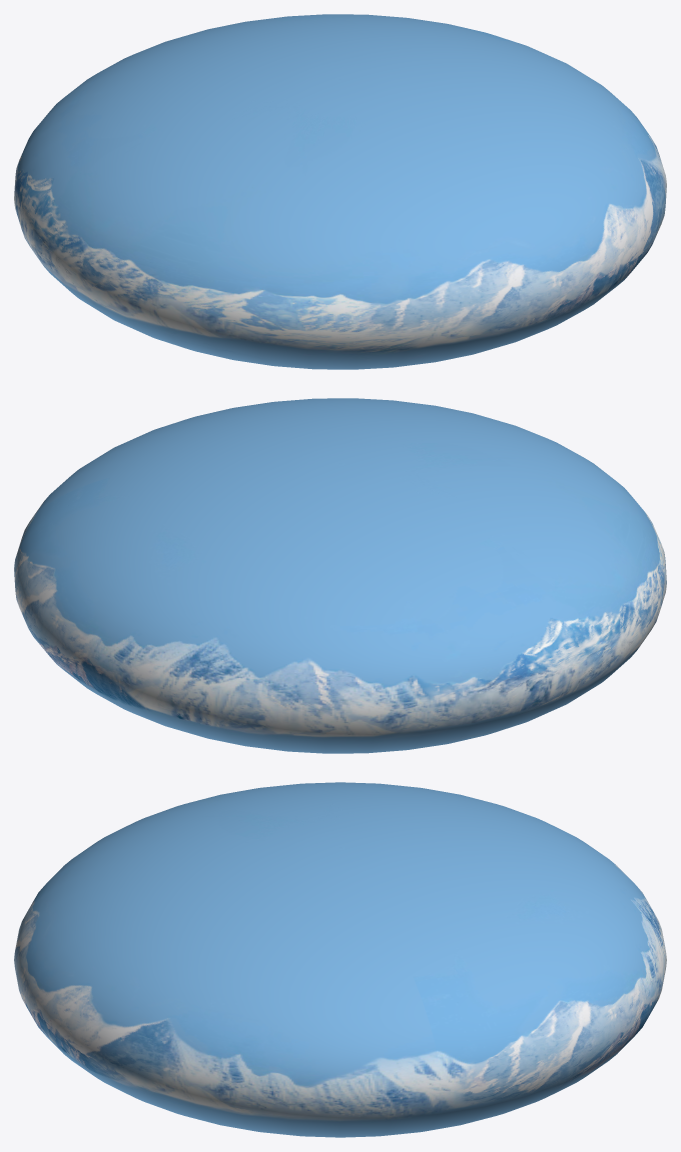
File: qiu2.fbx
3 views of the same model, one above another, from view 1: azimuth 30°, elevation 25°; view 2: azimuth 150°, elevation 25°; view 3: azimuth 270°, elevation 25° (orthographic).
Visible parts, largest first — view 1: pSphere1; view 2: pSphere1; view 3: pSphere1.
Part boxes in pixels (x1,y1,x2,y2): pSphere1: [14, 14, 666, 369]; pSphere1: [14, 398, 666, 753]; pSphere1: [14, 782, 666, 1137].
Size of the model in its own units: 226 by 85.64 by 226.
1 material, 1 textured.
